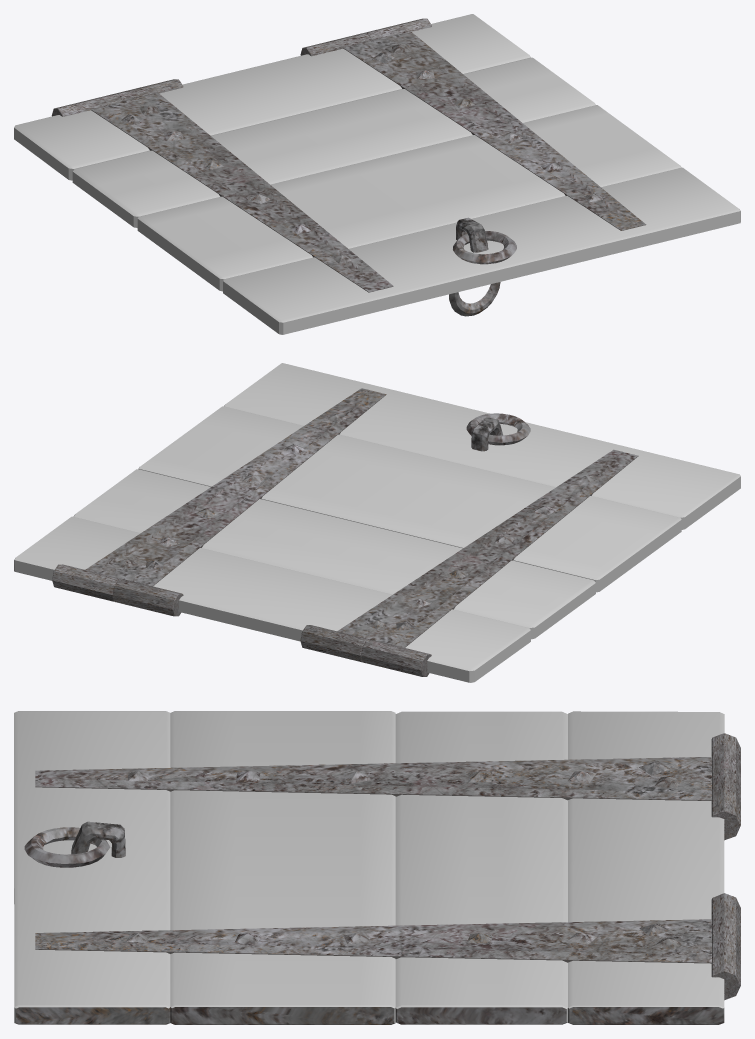
The model's file is Hatch.fbx.
3 renders of one model, top to bottom at view 1: azimuth 30°, elevation 25°; view 2: azimuth 150°, elevation 25°; view 3: azimuth 270°, elevation 25°, orthographic. The views are drawn at different scales.
Visible parts, largest first — view 1: Люк; view 2: Люк; view 3: Люк.
Boxes of the visible parts, x1,y1,x2,y2 form: Люк: (14,14,740,334); Люк: (14,363,740,682); Люк: (14,711,740,1024).
Size of the model in its own units: 185 by 179 by 35.23.
